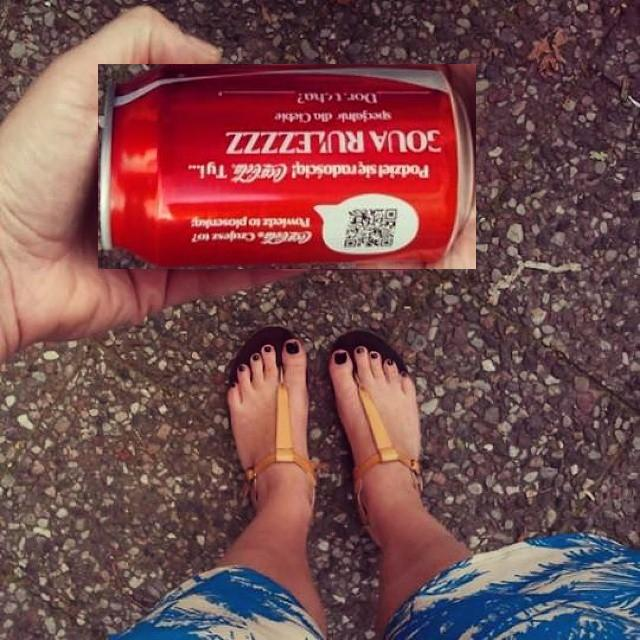coca-cola: (98, 64, 476, 269)
